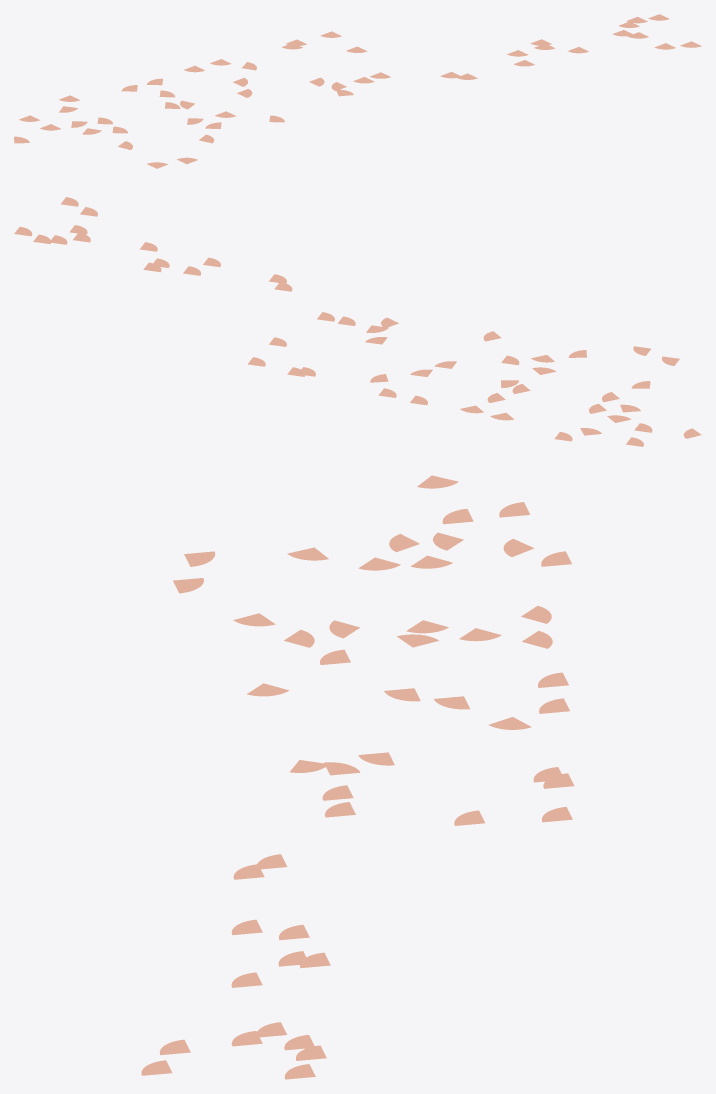
The model's file is camera.gltf.
3 views of the same model, one above another, from view 1: azimuth 30°, elevation 25°; view 2: azimuth 150°, elevation 25°; view 3: azimuth 270°, elevation 25° (orthographic). The views are drawn at different scales.
Size of the model in its own units: 348734 by 0 by 105660.
